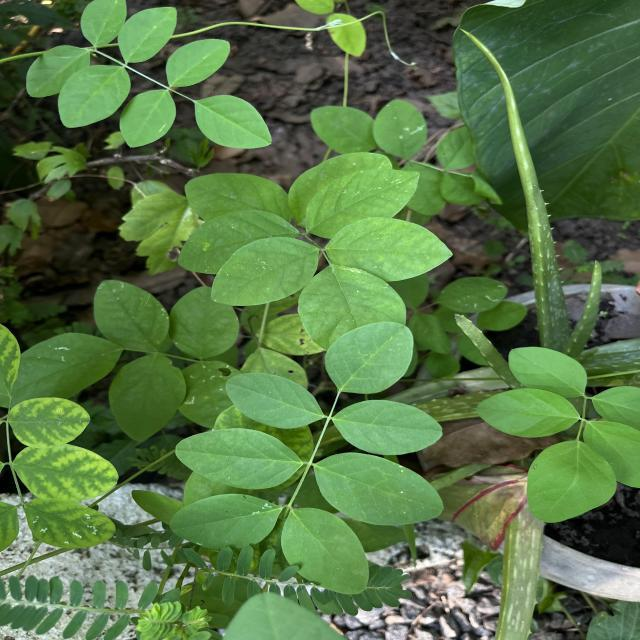Clitoria ternatea: (311, 450, 445, 528), (323, 216, 453, 283), (173, 426, 303, 492), (278, 506, 371, 597), (210, 236, 320, 307), (167, 493, 284, 552), (324, 321, 414, 396), (334, 397, 444, 457), (222, 372, 322, 430)
